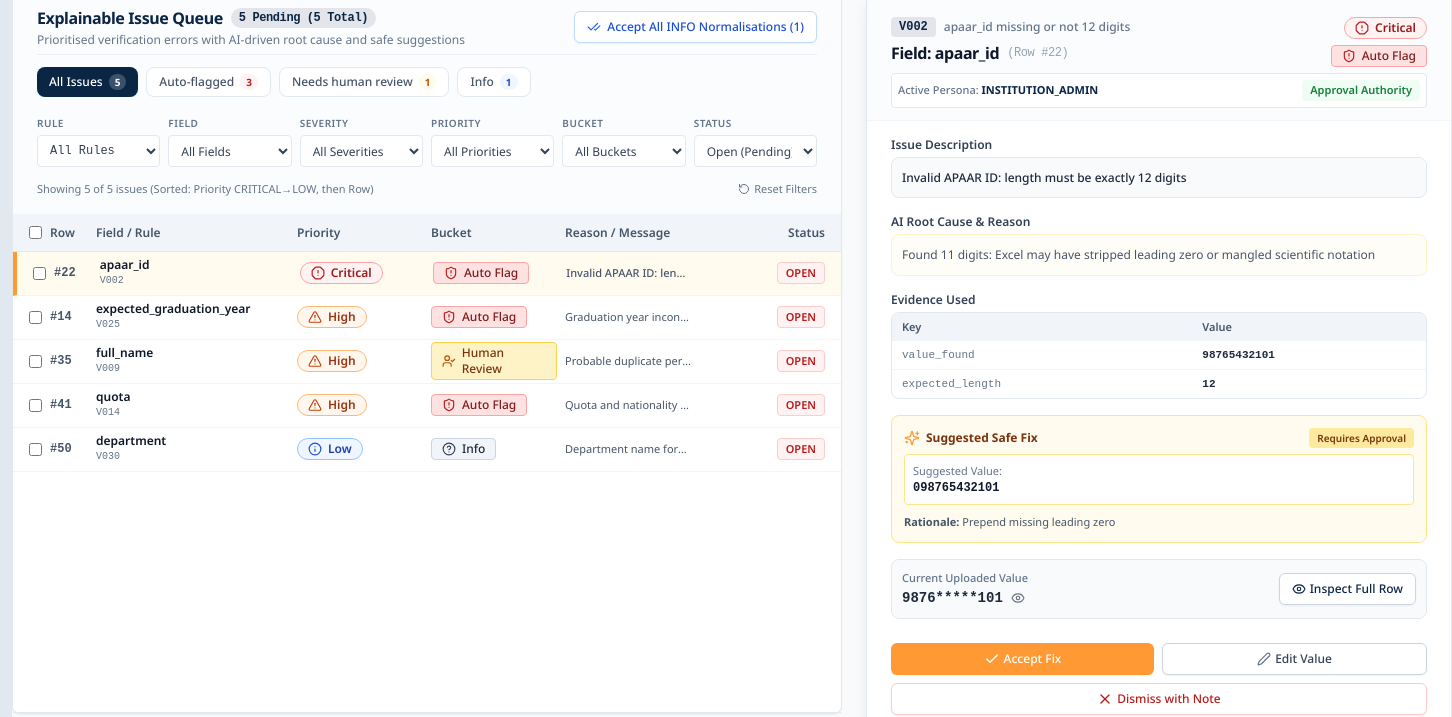
Review Workspace & Decision Flow (Task A3) › 2. Issue Card, Evidence Table, Deep Link & Decision Flow (Staff vs Admin) › Admin edits value with replacement string
The width and height of the screenshot is (1452, 717).
(page scrolled)
Click the button "Edit Value": (1294, 659) [1162, 643, 1427, 675]
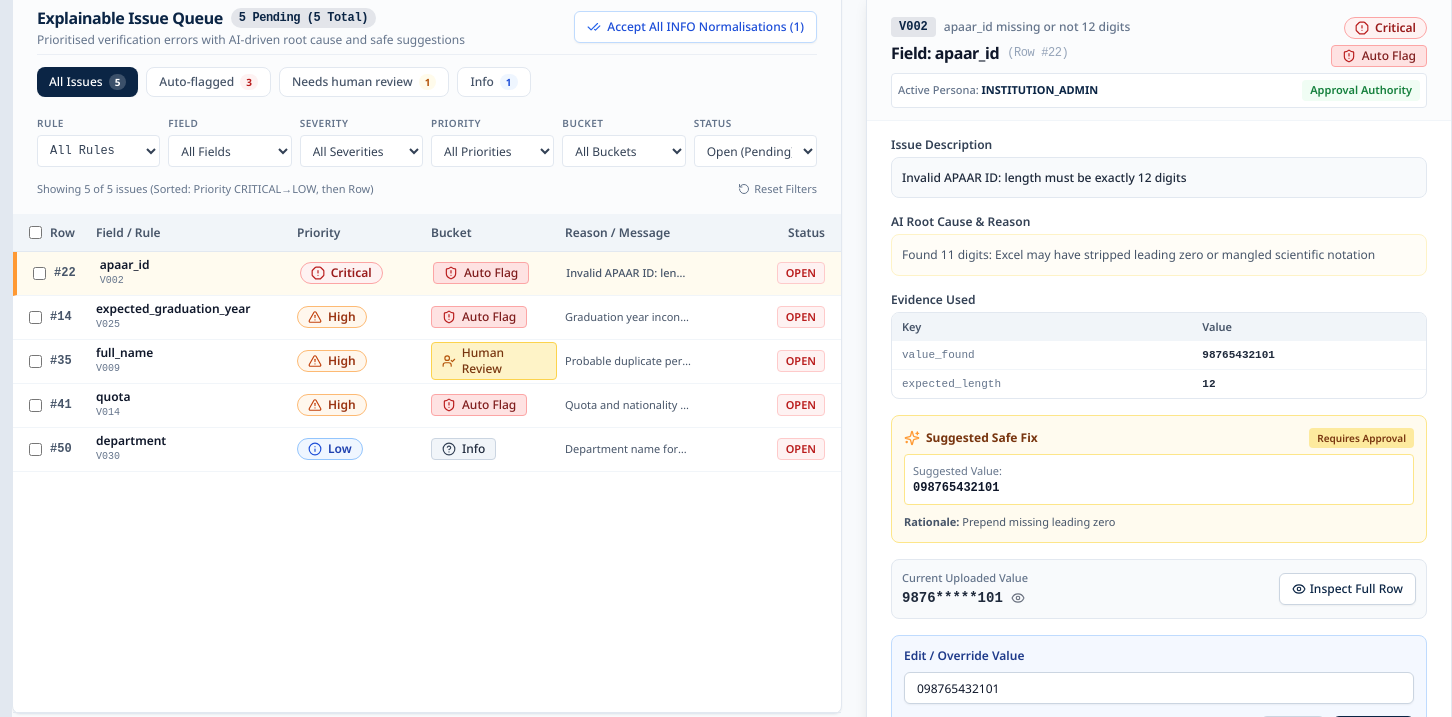
Replace the text in the field with placeholder "Enter replacement value..." with "984572912301": (1159, 688) [904, 672, 1414, 704]
(page scrolled)
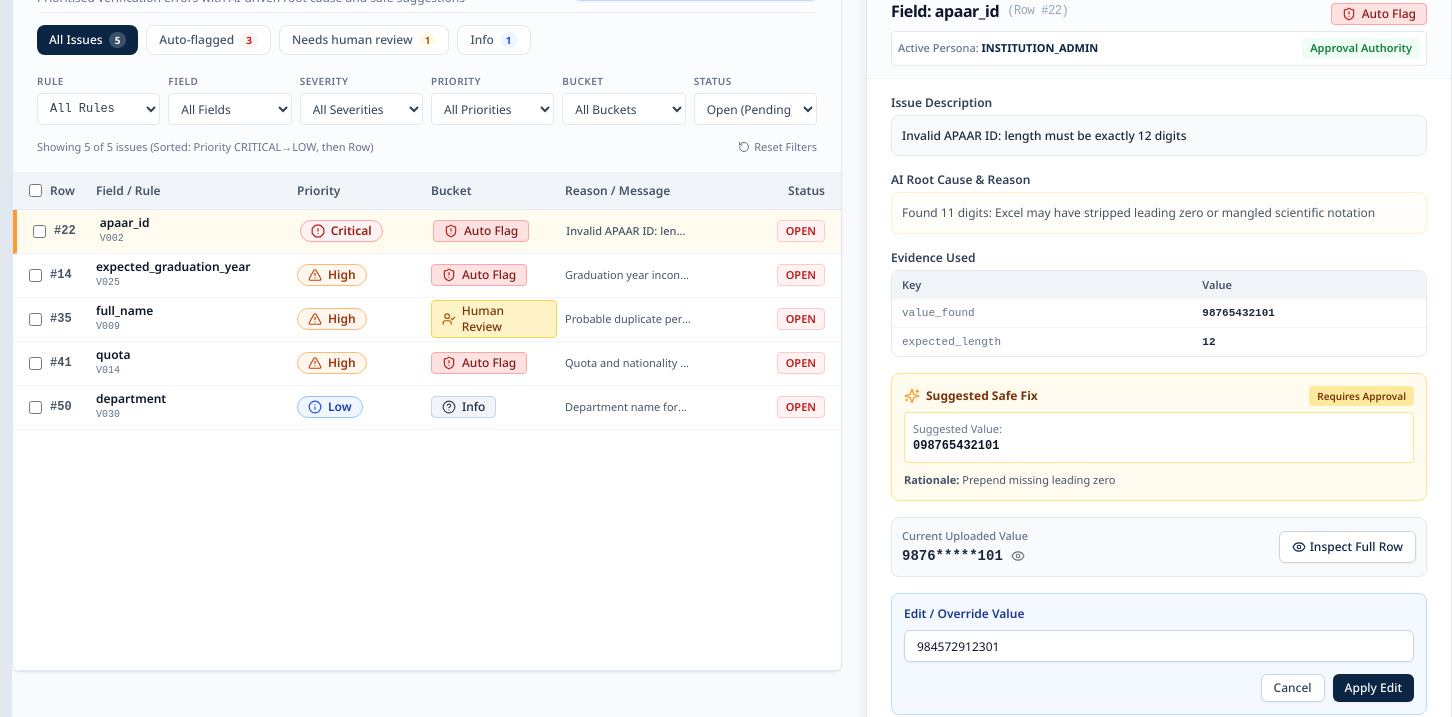
Click the button "Apply Edit": (1373, 688) [1333, 674, 1414, 702]
(page scrolled)
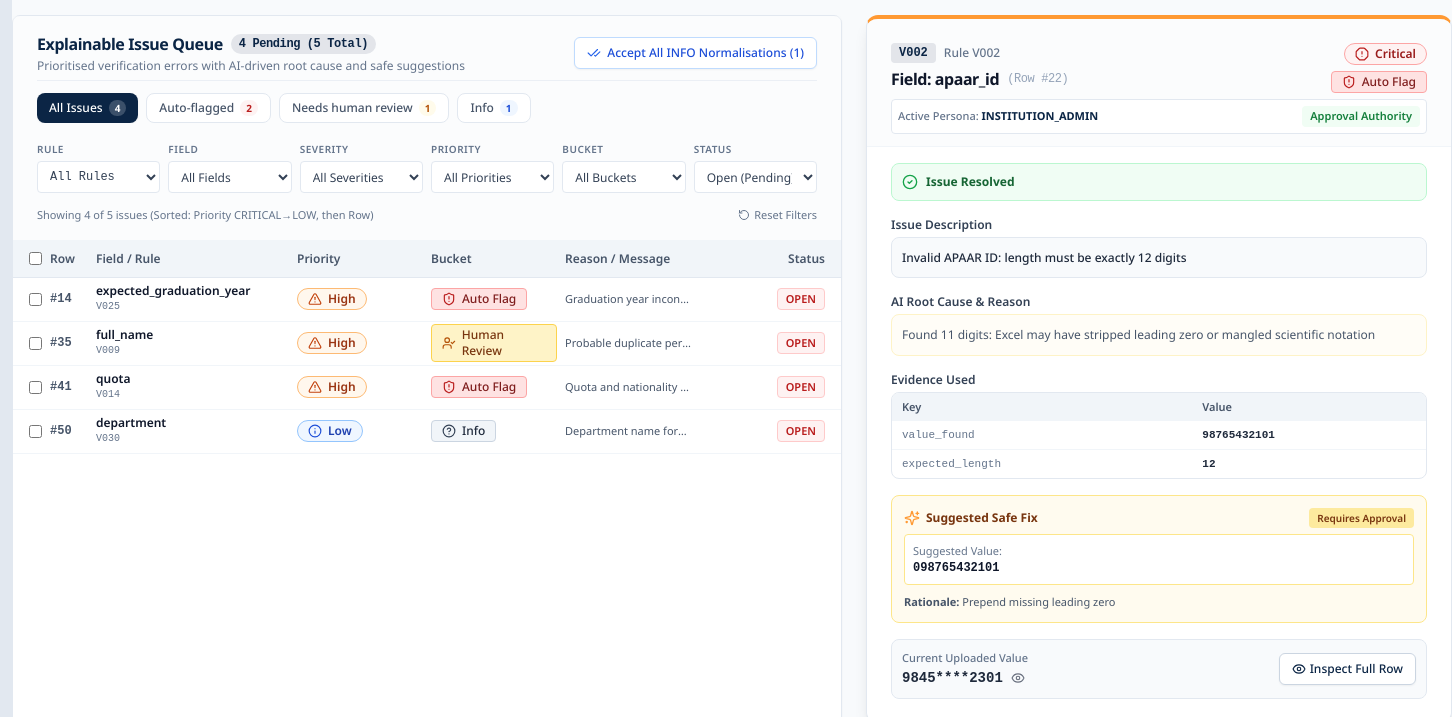
expect the text "Issue Resolved" is shown: met, box [926, 172, 1014, 190]
